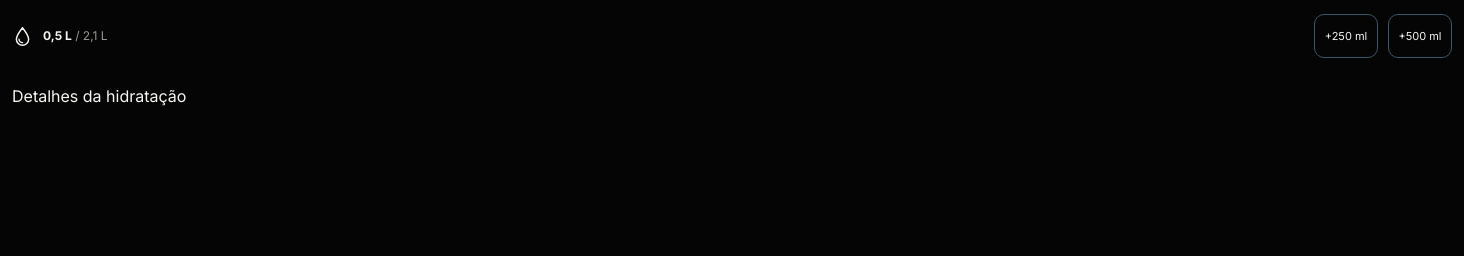
Test: compact hydration uses server totals, undo and errors without optimistic fake totals
What coordinates should you click on to do the following:
click the button "+250 ml"
I would click on:
 (1346, 36)
Its box is x1=1314 y1=14 x2=1378 y2=58.
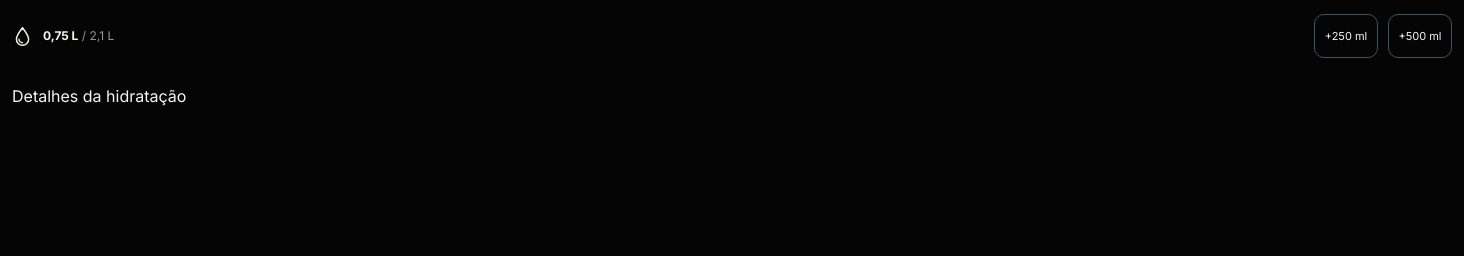
Result: the text "0,75 L" is shown at x1=43 y1=28 x2=78 y2=43
What coordinates should you click on to do the following:
click the heading "Detalhes da hidratação"
I would click on:
 (99, 96)
Its box is x1=12 y1=86 x2=186 y2=106.
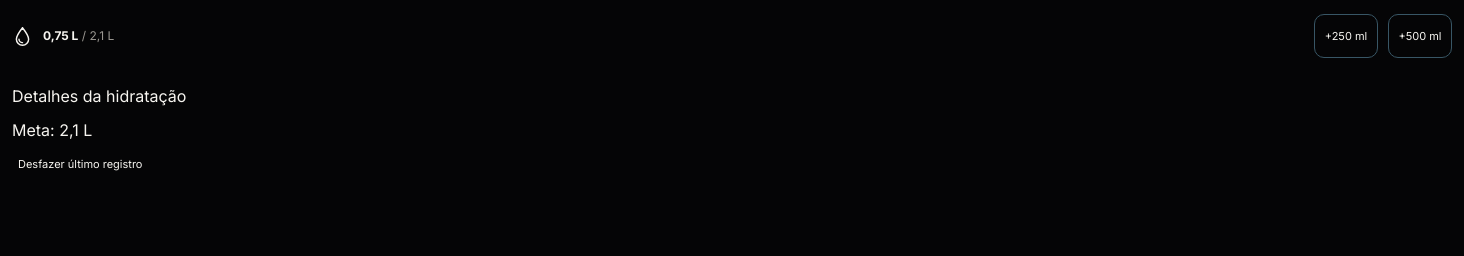
Result: the button "Desfazer último registro" is shown
What coordinates should you click on to do the following:
click the button "Desfazer último registro"
I would click on:
 (80, 164)
Its box is x1=12 y1=142 x2=148 y2=186.
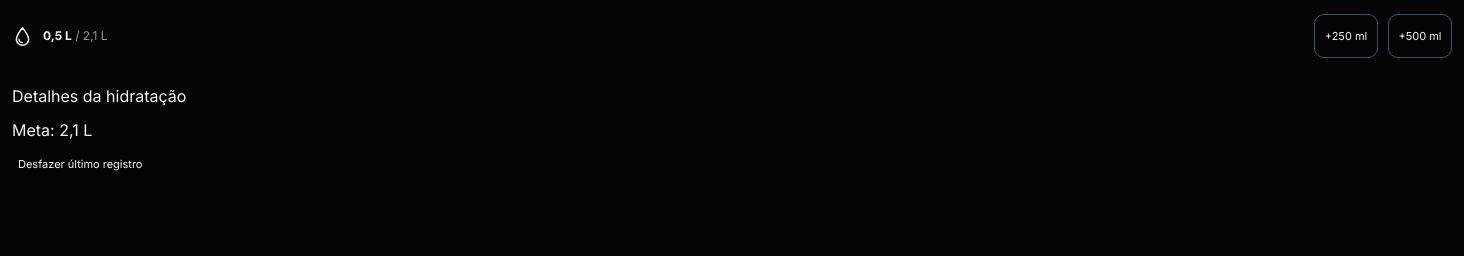
Result: the text "0,5 L" is shown at x1=43 y1=28 x2=72 y2=43
What coordinates should you click on to do the following:
click the button "+500 ml"
I would click on:
 (1420, 36)
Its box is x1=1388 y1=14 x2=1452 y2=58.
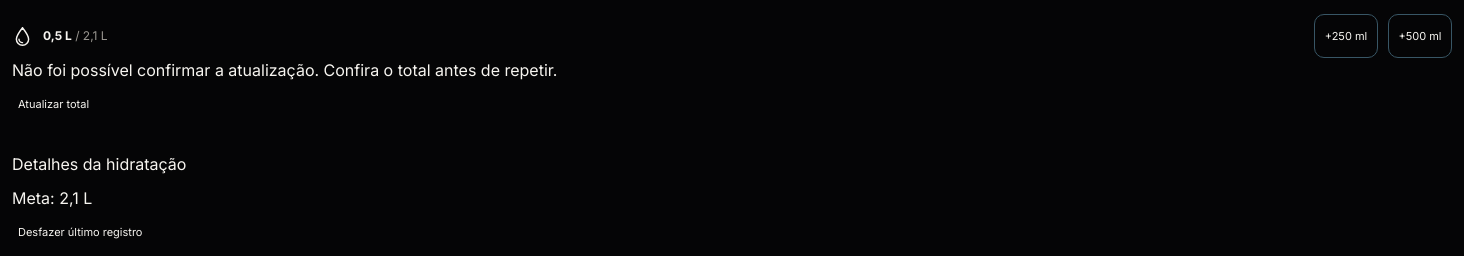
Result: the element with class "a6-water-strip" shows "0,5 L" at x1=12 y1=14 x2=1452 y2=58
Result: the message shows "Não foi possível confirmar" at x1=12 y1=60 x2=557 y2=80
